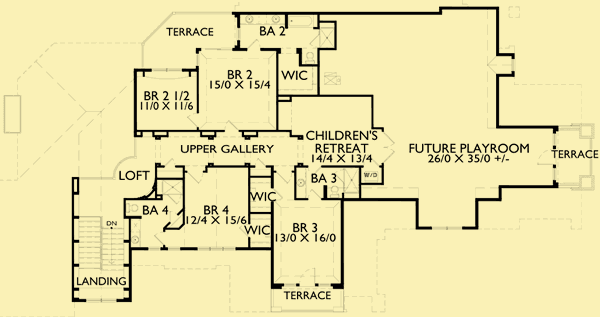door: (298, 268, 317, 286), (275, 170, 293, 185), (221, 118, 239, 132), (185, 171, 205, 183), (187, 112, 200, 129), (152, 231, 164, 246), (247, 38, 262, 50)
large_sink: (303, 50, 316, 65), (329, 183, 339, 199), (126, 201, 137, 214)
small_sink: (296, 166, 308, 198), (130, 220, 140, 248), (266, 14, 284, 24), (239, 16, 261, 24)
stairs: (73, 215, 132, 274)
tub: (287, 13, 316, 28)
windows: (430, 224, 462, 231), (196, 246, 236, 251), (152, 67, 182, 73), (85, 299, 117, 303), (510, 57, 516, 72)
